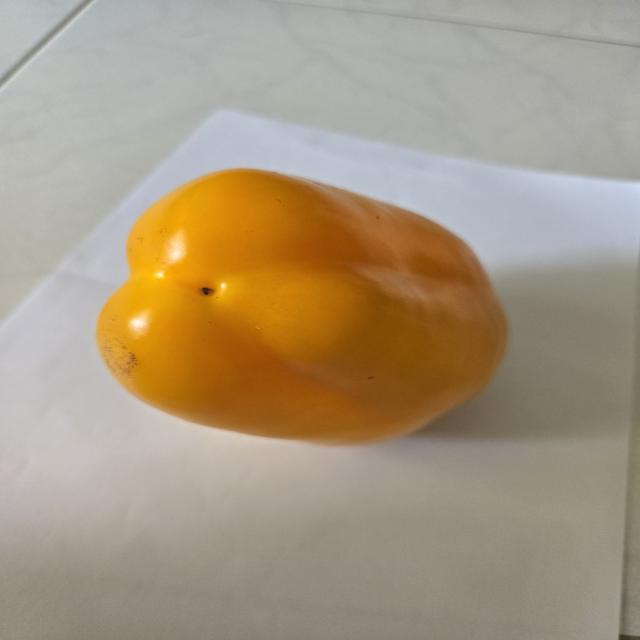bell-pepper: (92, 160, 532, 454)
